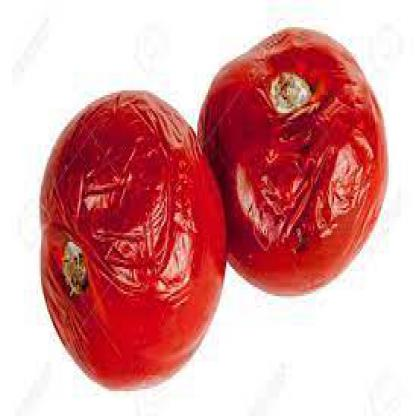Rotten: (23, 63, 237, 405)
